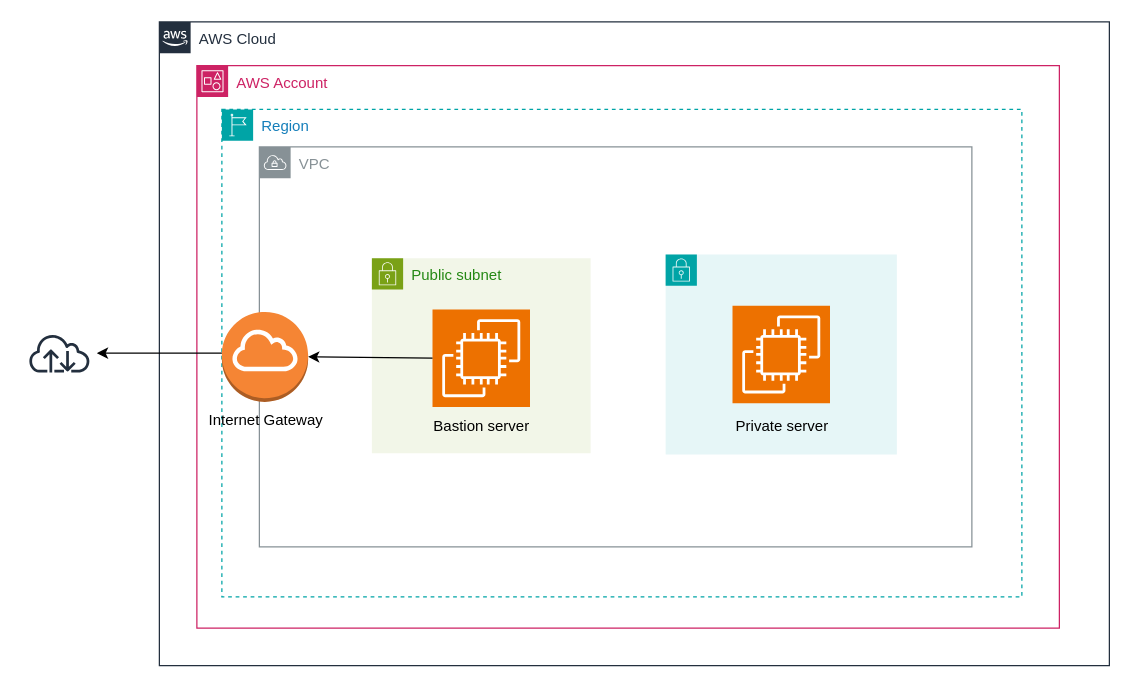
This 1131x688 diagram has some shape labels left out. The shapes that lost their labels are listed below. From the top down, each one's box as (x1, y1, x2, y2) in pixels, then its label:
(21, 314, 97, 391): Internet
(664, 253, 897, 454): Private subnet
